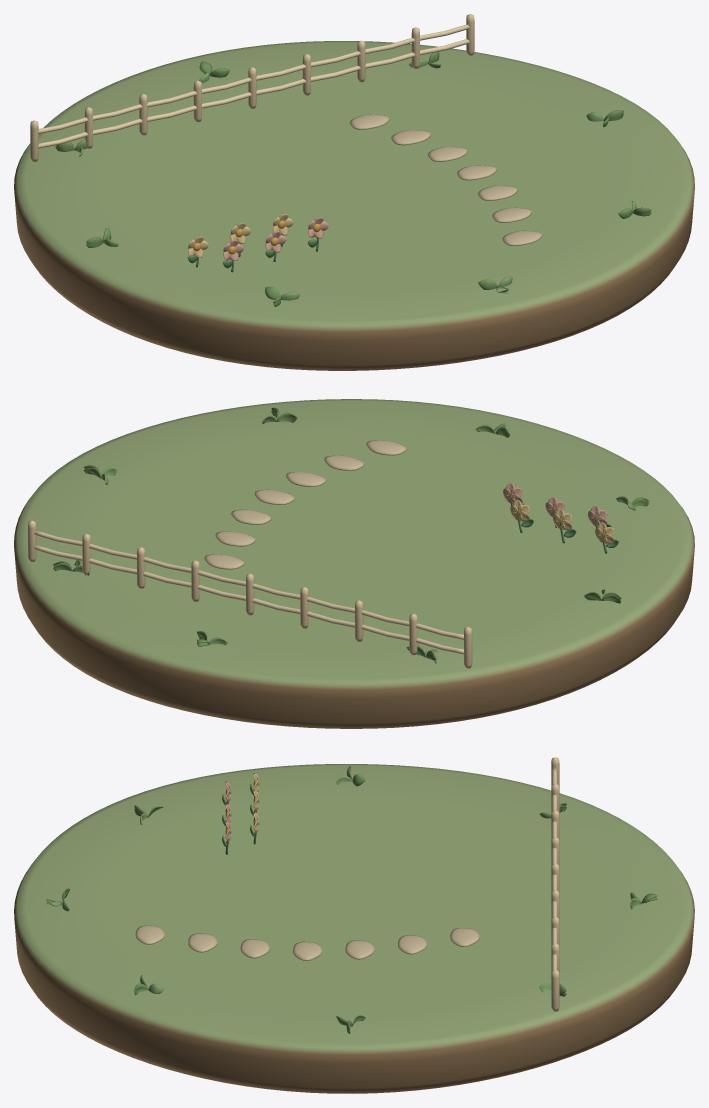
The model's file is environment-math.glb.
The picture shows the model from 3 angles, top to bottom: view 1: azimuth 30°, elevation 25°; view 2: azimuth 150°, elevation 25°; view 3: azimuth 270°, elevation 25°; orthographic projection.
Visible parts, largest first — view 1: static-environment-organic, static-environment-wood; view 2: static-environment-organic, static-environment-wood; view 3: static-environment-organic, static-environment-wood.
Boxes of the visible parts, left/top/right/bottom form: static-environment-organic: left=14, top=41, right=694, bottom=370; static-environment-wood: left=30, top=14, right=474, bottom=161; static-environment-organic: left=14, top=399, right=694, bottom=728; static-environment-wood: left=28, top=520, right=472, bottom=668; static-environment-organic: left=14, top=764, right=694, bottom=1093; static-environment-wood: left=551, top=757, right=559, bottom=1011.
Size of the model in its own units: 9.74 by 1.44 by 9.74.
